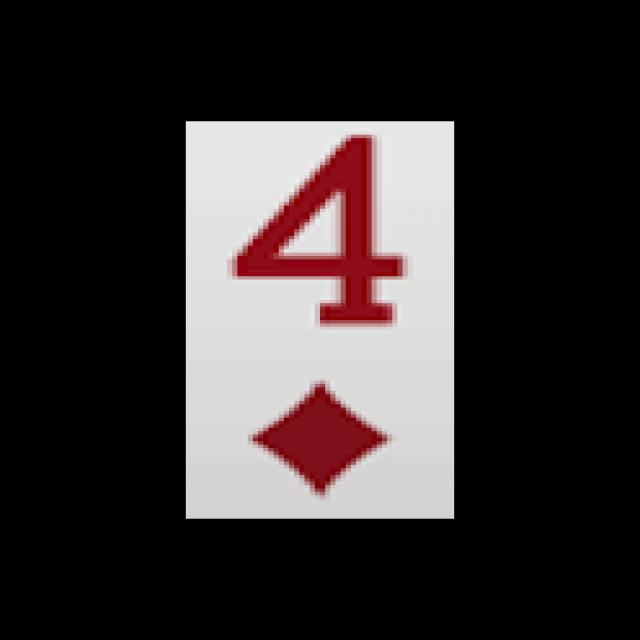4D: (201, 126, 432, 504)
